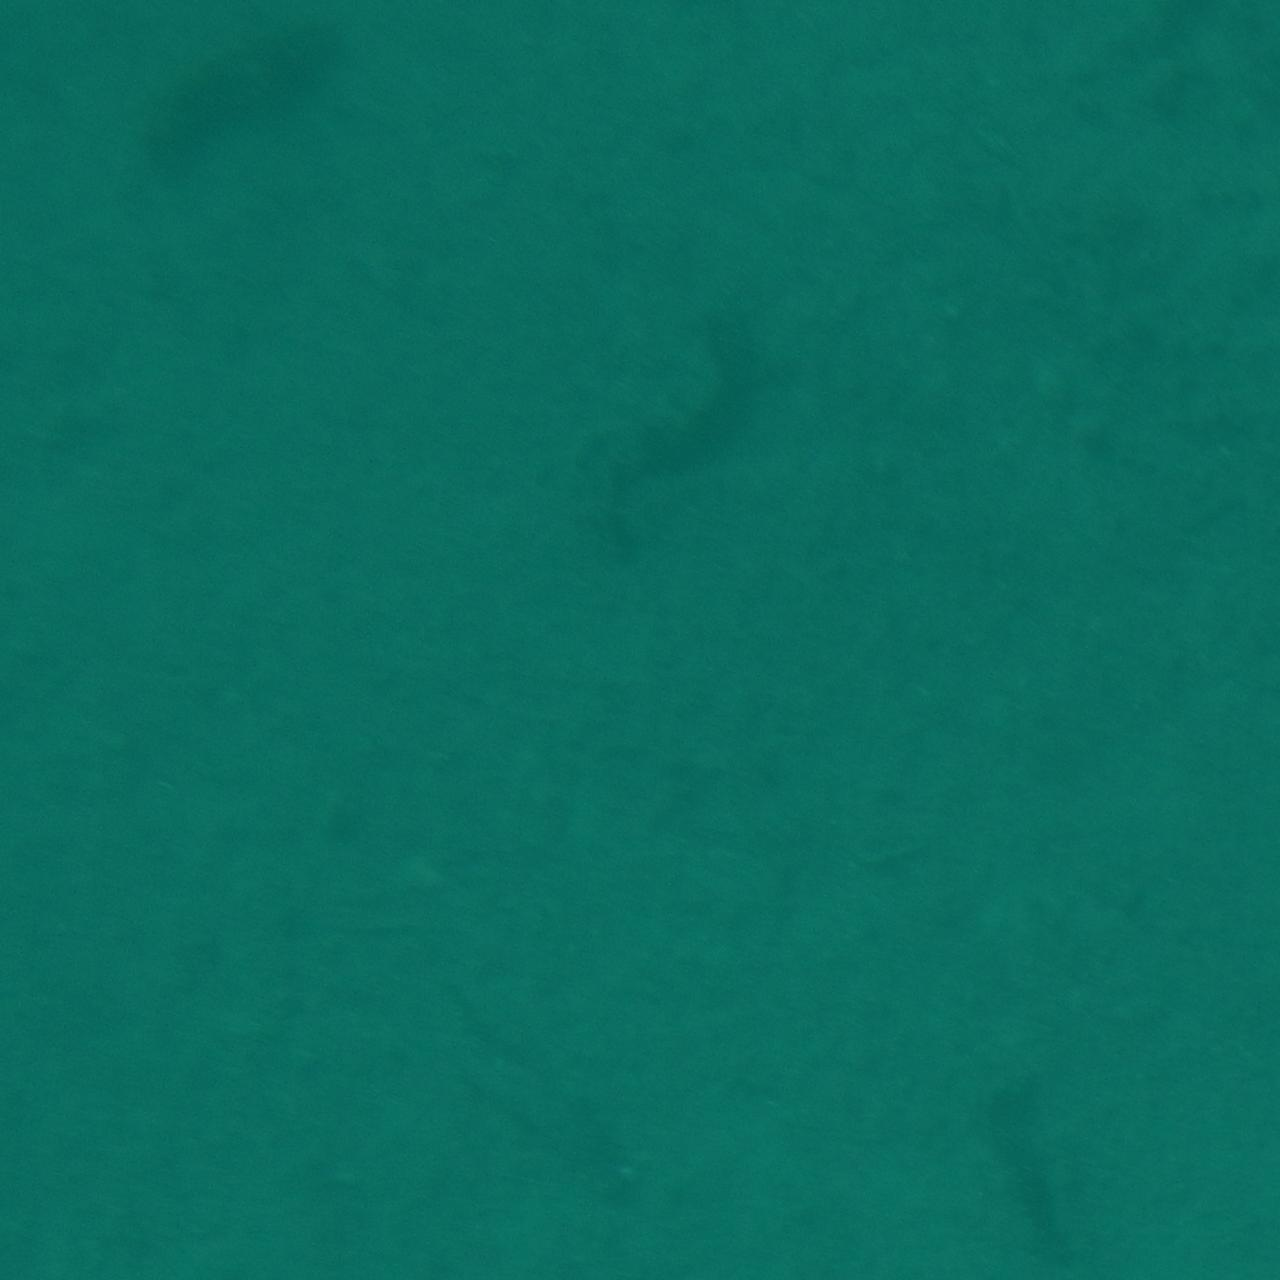Holothuria tubulosa: (560, 284, 772, 579), (423, 965, 635, 1238), (123, 4, 379, 219), (967, 1048, 1094, 1280)
